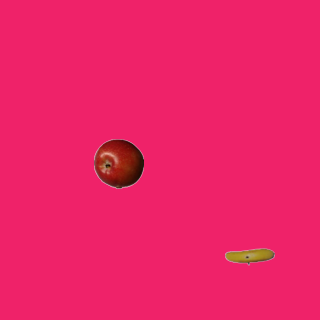Apple Braeburn: (93, 138, 143, 188)
Banana: (224, 231, 274, 281)
